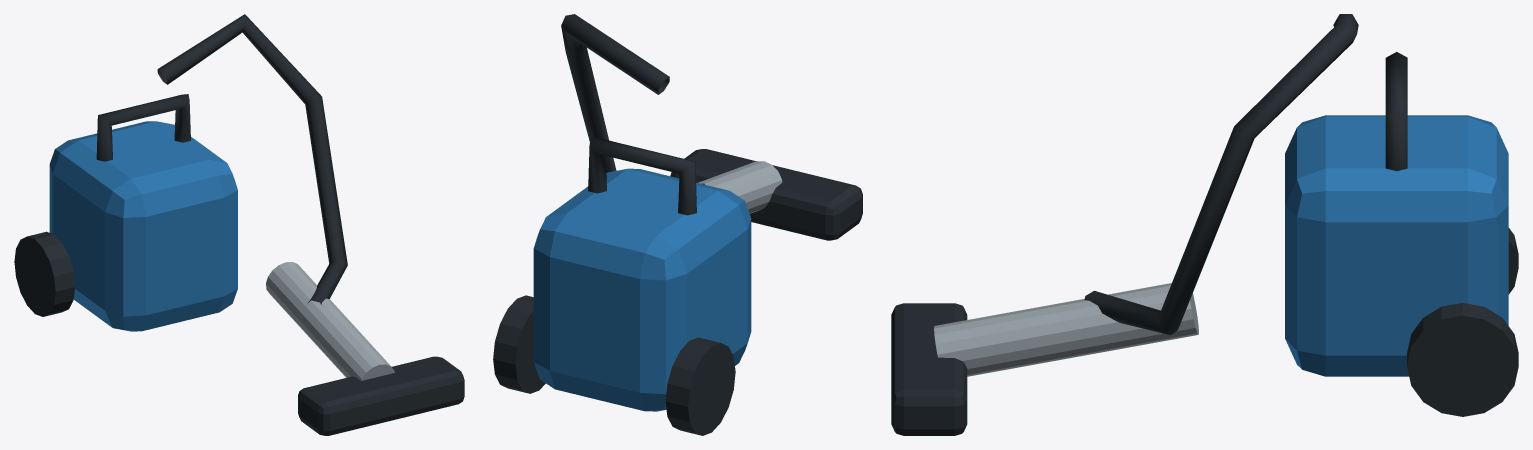
Rendered from vacuum.glb.
The picture shows the model from 3 angles, left to right: view 1: azimuth 30°, elevation 25°; view 2: azimuth 150°, elevation 25°; view 3: azimuth 270°, elevation 25°; orthographic projection. The views are drawn at different scales.
Visible parts, largest first — view 1: canister; view 2: canister; view 3: canister.
Boxes of the visible parts, x1,y1,x2,y2 form: canister: (14, 14, 464, 435); canister: (493, 14, 862, 435); canister: (891, 14, 1518, 435).
Size of the model in its own units: 0.685 by 0.8521 by 1.23.
